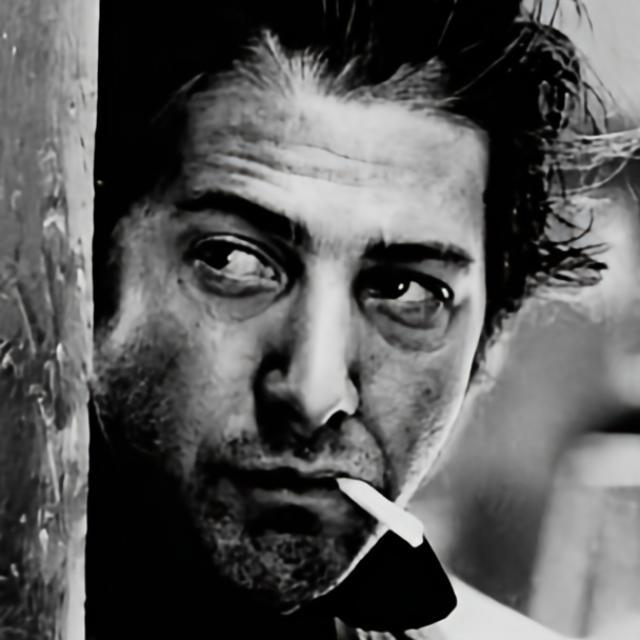neutral: (92, 35, 486, 614)
